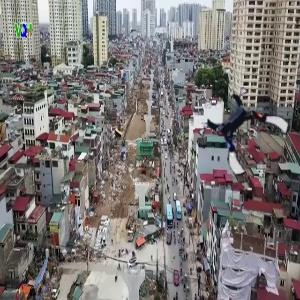drone: (207, 92, 285, 170)
